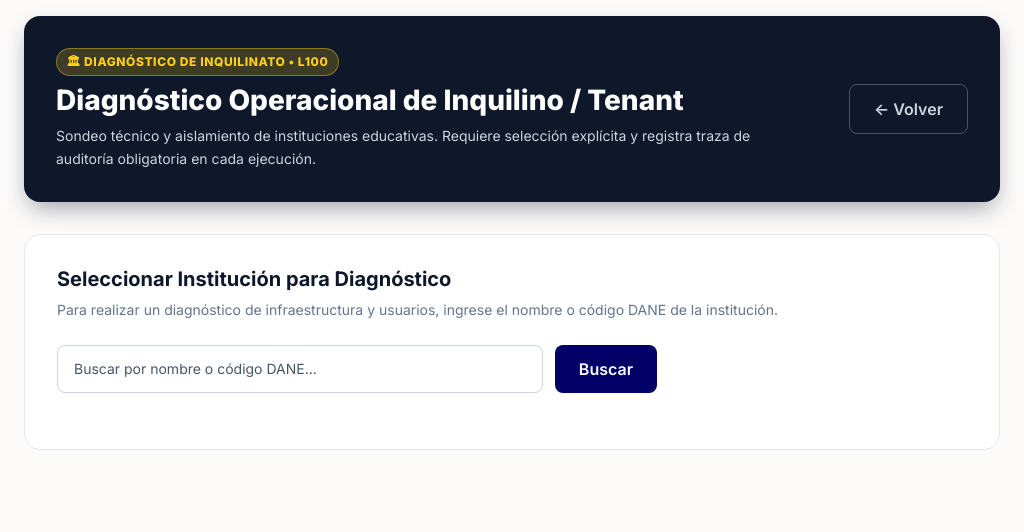
Scenario: NTA-10-R8: Tenant Diagnostics DANE & Name Search Verification › 3. Zero matches display a visible empty-state message
In the field labelled "Buscar por nombre o código DANE...": (300, 369) x1=57 y1=345 x2=543 y2=393, type "318001004174"
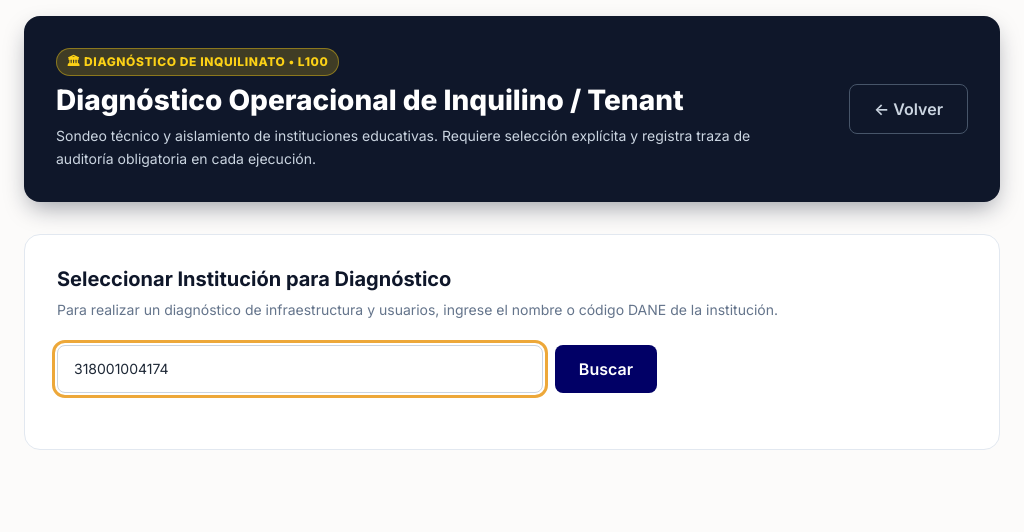
Click the button "Buscar": (606, 369) x1=555 y1=345 x2=657 y2=393
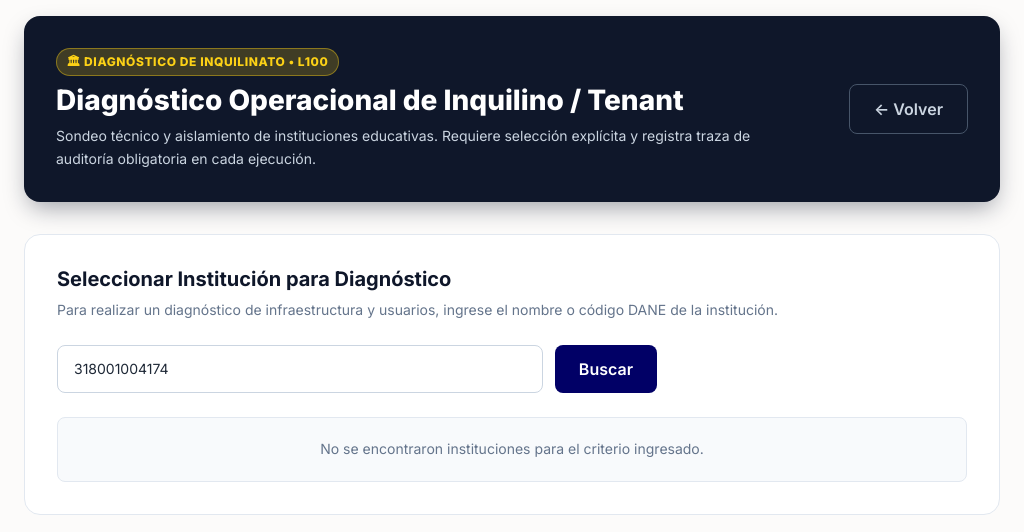
Expected: the text "No se encontraron instituciones para el criterio ingresado." is shown, x1=57 y1=417 x2=967 y2=482
